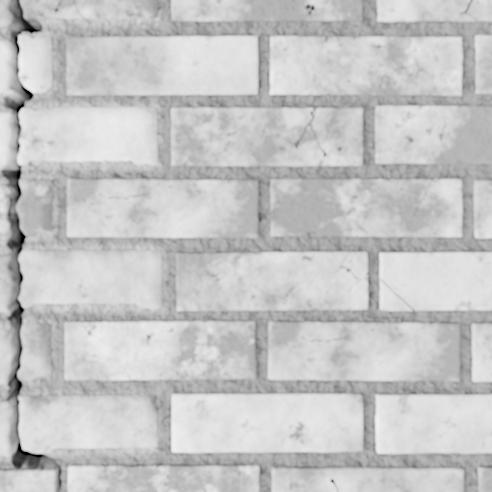brick: (269, 321, 459, 379), (65, 321, 255, 379), (176, 252, 367, 309), (271, 37, 461, 94), (67, 37, 257, 94), (172, 108, 362, 165), (173, 394, 362, 451), (68, 179, 257, 236), (271, 179, 461, 235), (376, 394, 491, 452), (376, 106, 491, 162), (380, 252, 491, 309), (69, 465, 258, 491), (272, 467, 462, 491), (172, 0, 361, 20), (378, 0, 474, 20), (0, 469, 54, 491), (472, 324, 491, 380), (475, 180, 491, 236), (476, 36, 491, 92), (381, 283, 409, 309), (343, 252, 366, 278), (468, 0, 491, 20), (479, 467, 491, 491)
broken_brick: (21, 249, 161, 308), (21, 394, 157, 453), (19, 107, 157, 165), (18, 179, 52, 236), (20, 34, 52, 92), (20, 323, 51, 381), (76, 0, 158, 19), (22, 0, 80, 19), (0, 254, 11, 312), (0, 327, 11, 384), (0, 399, 10, 457), (0, 39, 10, 97), (0, 184, 9, 242), (0, 112, 9, 167), (0, 0, 11, 27)
crack: (0, 0, 62, 491), (293, 107, 327, 158), (337, 251, 368, 293), (379, 278, 414, 310), (413, 179, 439, 215), (460, 0, 477, 21), (72, 0, 87, 18), (52, 0, 63, 13), (329, 477, 339, 491), (66, 71, 74, 81)
